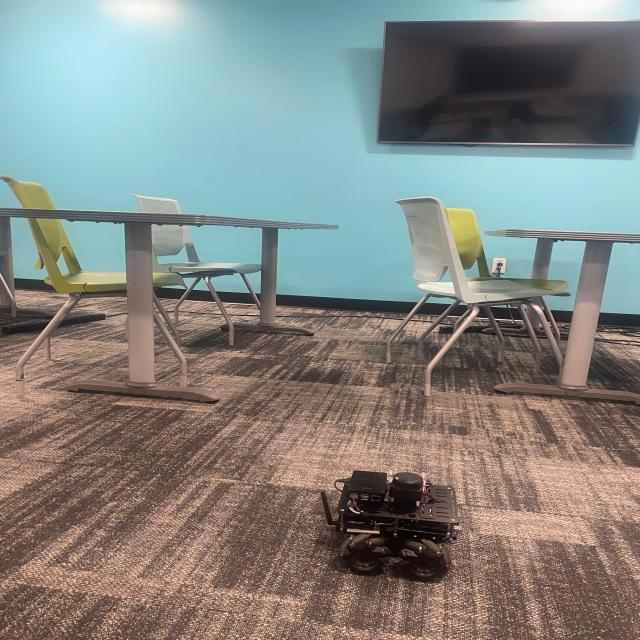ArduinoCar3: (328, 463, 454, 579)
